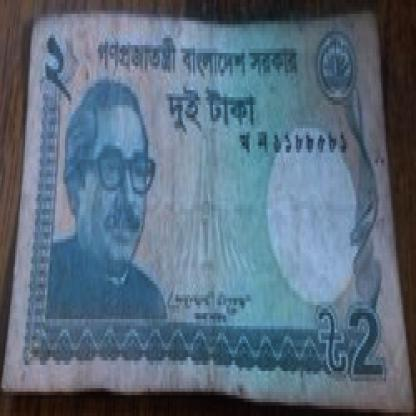two taka: (343, 291, 389, 385), (43, 24, 80, 108)
